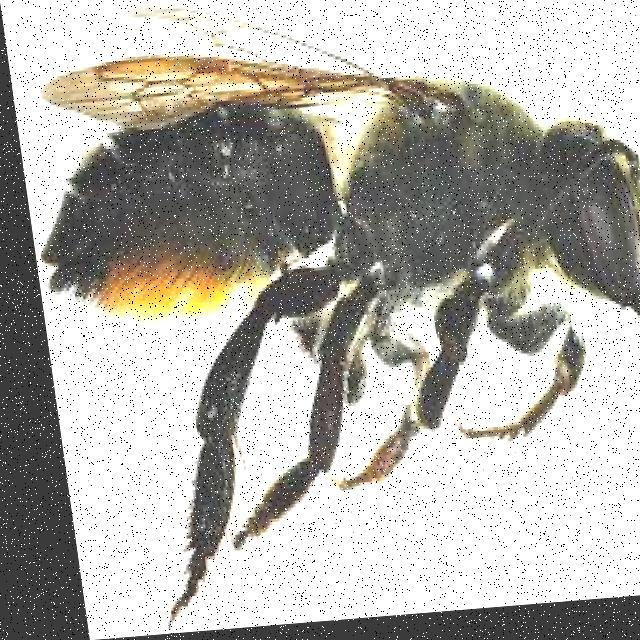Braunsapis: (10, 0, 640, 564)
